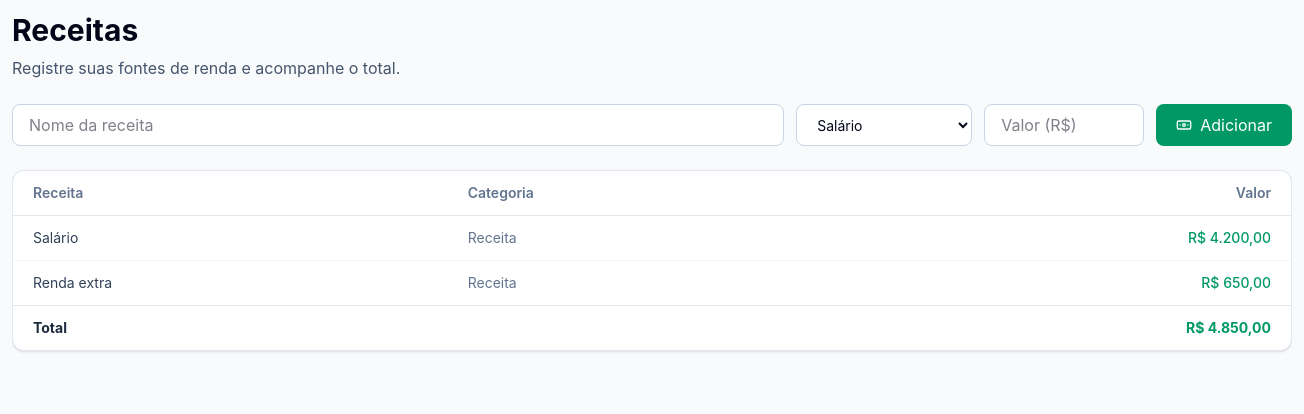
Test: Incomes › adiciona nova receita ao submeter o formulário
This screenshot has width=1304, height=414.
Type "Bonus" into the field with placeholder "Nome da receita". click: (398,125)
box: 12,104 -> 784,146
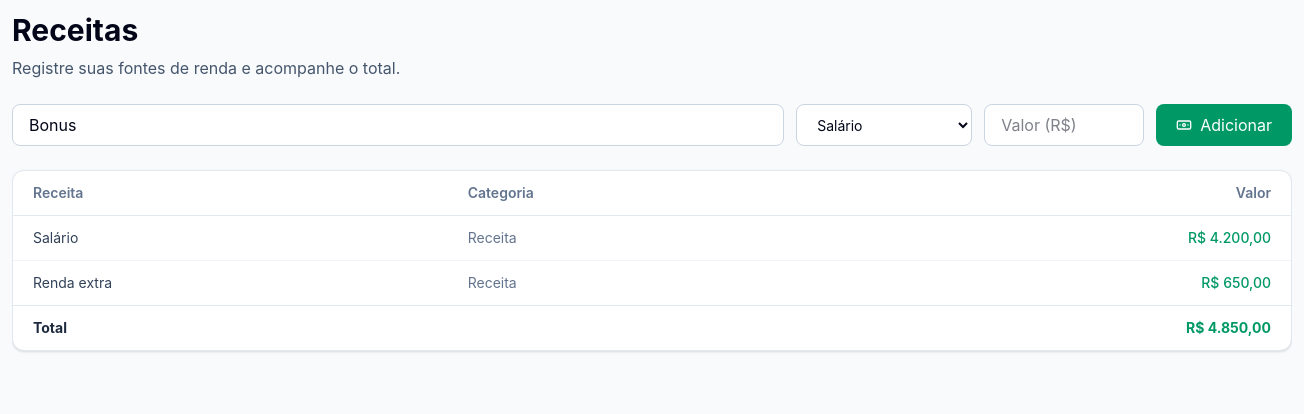
Type "1500" into the number field with placeholder "Valor (R$)". click: (1064,125)
box: 984,104 -> 1144,146
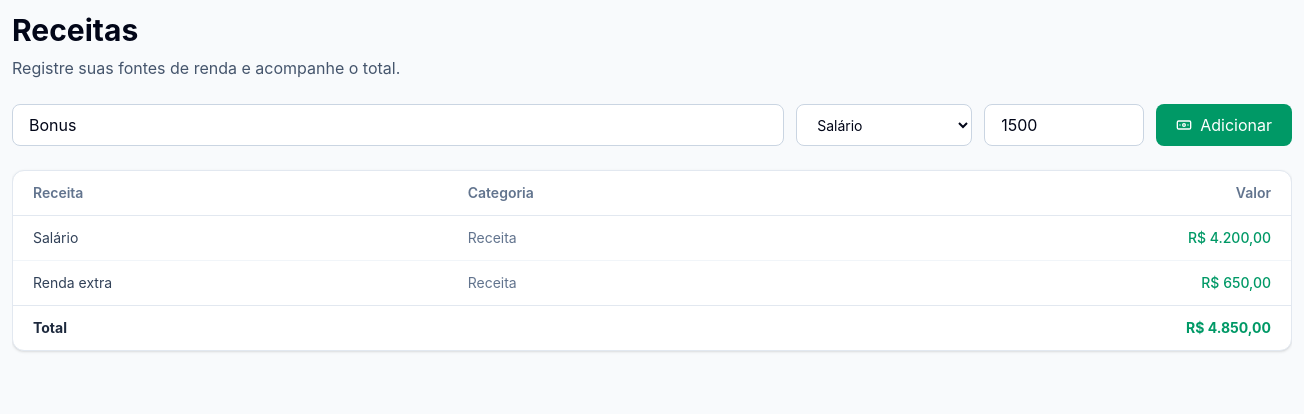
Click the button "Adicionar". click: (1224,125)
box: 1156,104 -> 1292,146
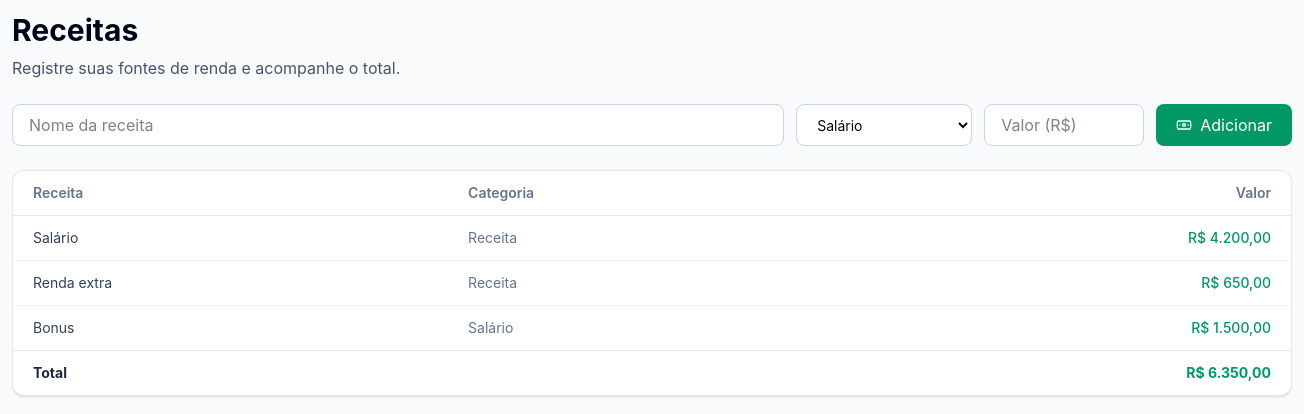
Expected: the text "Bonus" is shown, 13,306 -> 448,350
